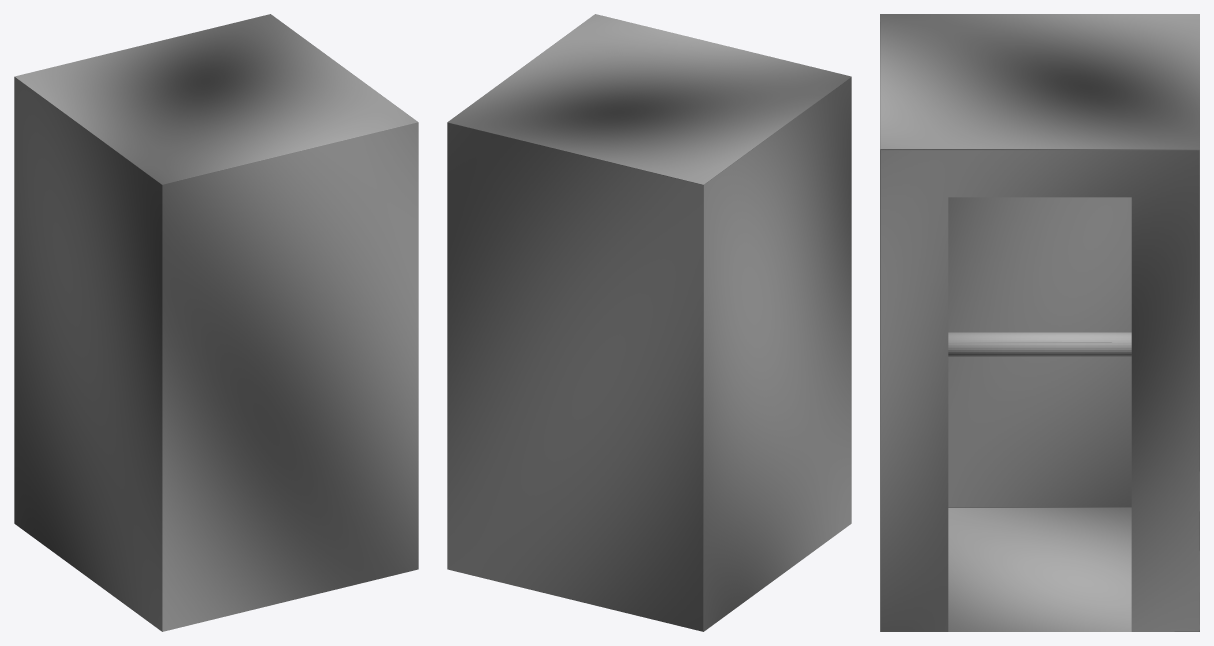
The model's file is Lifts.fbx.
3 renders of one model, left to right at view 1: azimuth 30°, elevation 25°; view 2: azimuth 150°, elevation 25°; view 3: azimuth 270°, elevation 25°, orthographic. The views are drawn at different scales.
Parts seen in each view (by area): view 1: Cube; view 2: Cube; view 3: Cube.
Boxes of the visible parts, bbox=[...] form: Cube: bbox=[14, 14, 418, 631]; Cube: bbox=[447, 14, 851, 631]; Cube: bbox=[880, 14, 1199, 631].
Bounding box in the file's own units: 600 × 1000 × 600.
